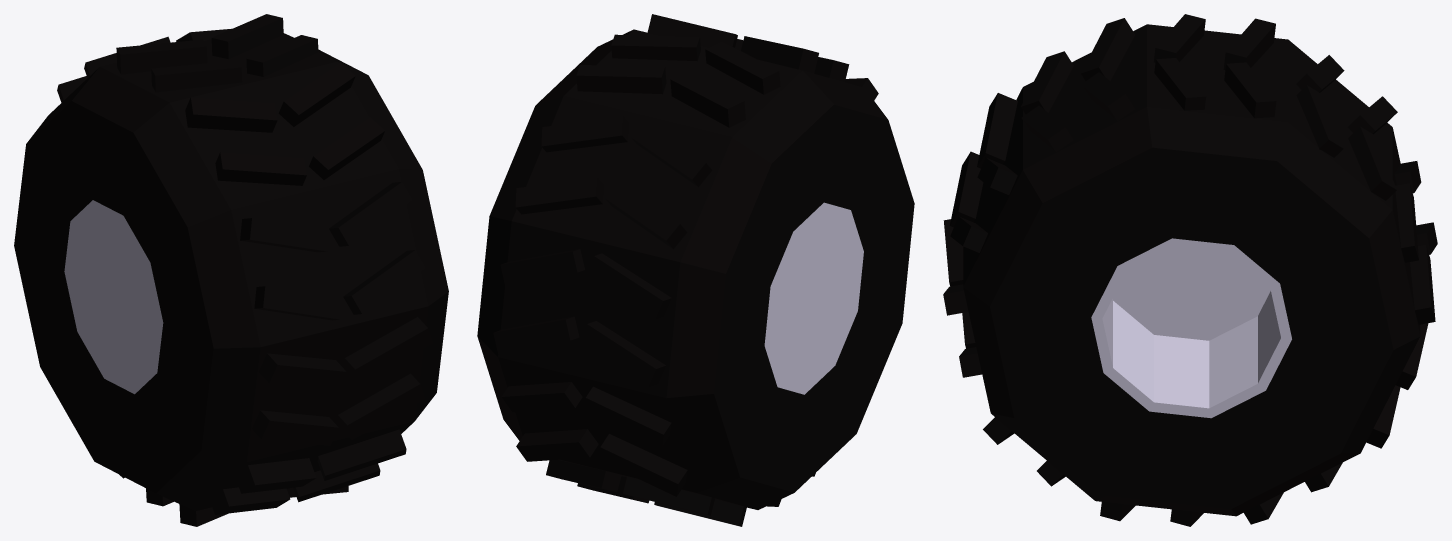
File: wheel.glb
3 renders of one model, left to right at view 1: azimuth 30°, elevation 25°; view 2: azimuth 150°, elevation 25°; view 3: azimuth 270°, elevation 25°, orthographic.
Visible parts, largest first — view 1: Monster Truck wheel front left; view 2: Monster Truck wheel front left; view 3: Monster Truck wheel front left.
Boxes of the visible parts, left/top/right/bottom form: Monster Truck wheel front left: left=14, top=14, right=448, bottom=526; Monster Truck wheel front left: left=477, top=14, right=914, bottom=526; Monster Truck wheel front left: left=943, top=14, right=1437, bottom=526.
Bounding box in the file's own units: 1.04 × 1.83 × 1.87.
